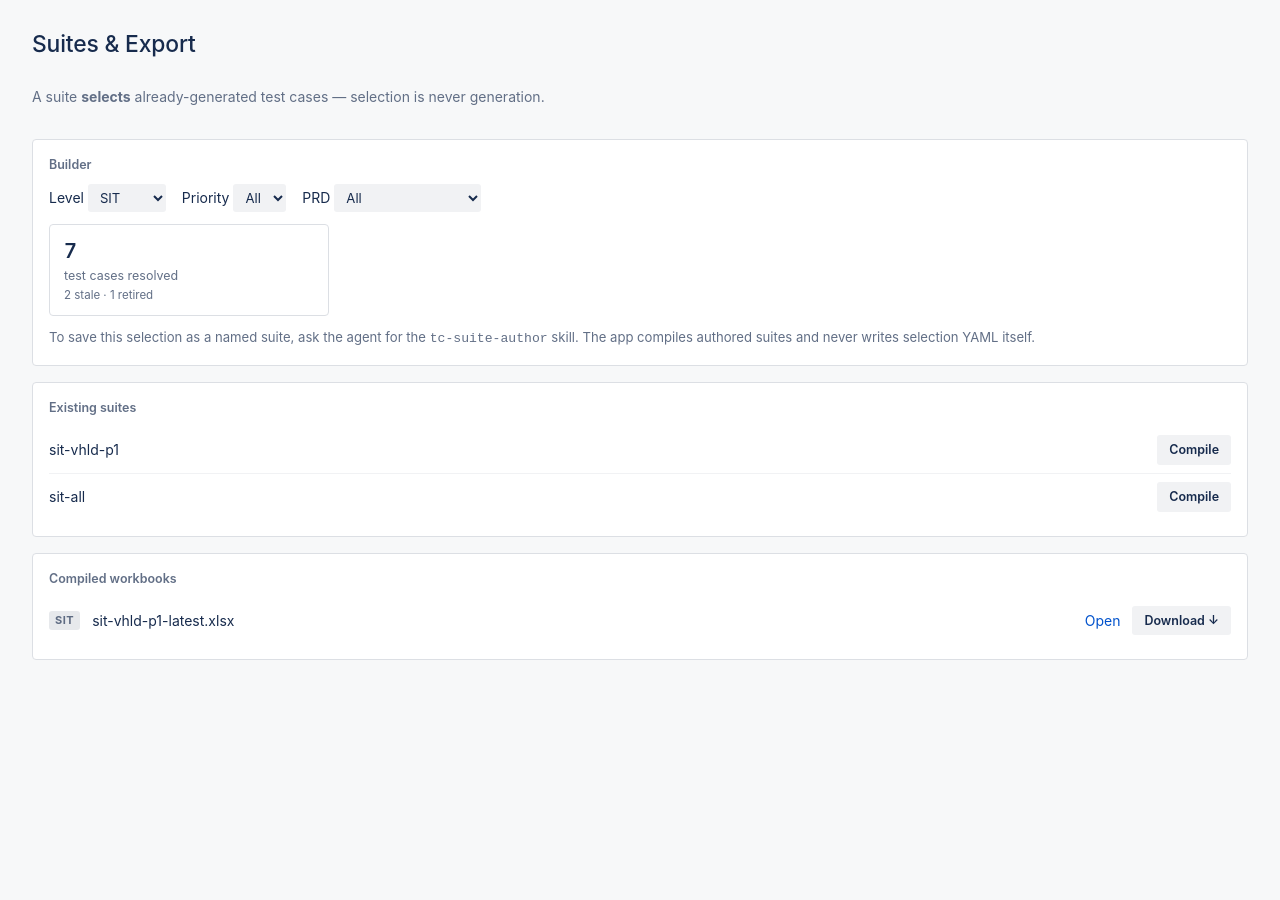
it: SuitesPage › shows a compile the server would not run, and one that could not be sent
The image size is (1280, 900).
Expected: the text "7" is shown, [64,239,77,263]
Click the 1st button "Compile". click: [1194, 450]
box: [1157,435,1231,465]
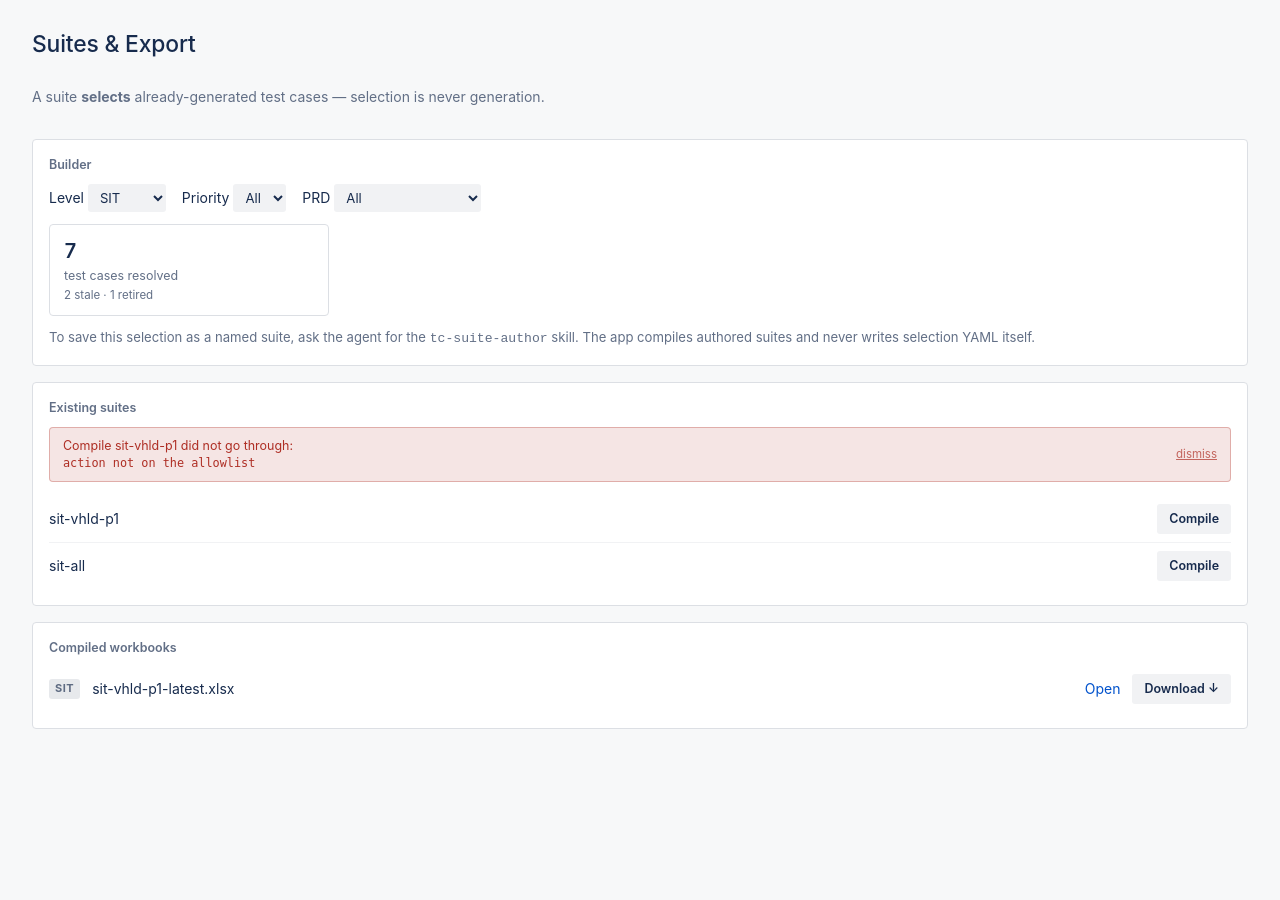
Now the text "action not on the allowlist" is shown, box [63,456,255,470]
Click the 1st button "Compile". click: [1194, 519]
box: [1157,504,1231,534]
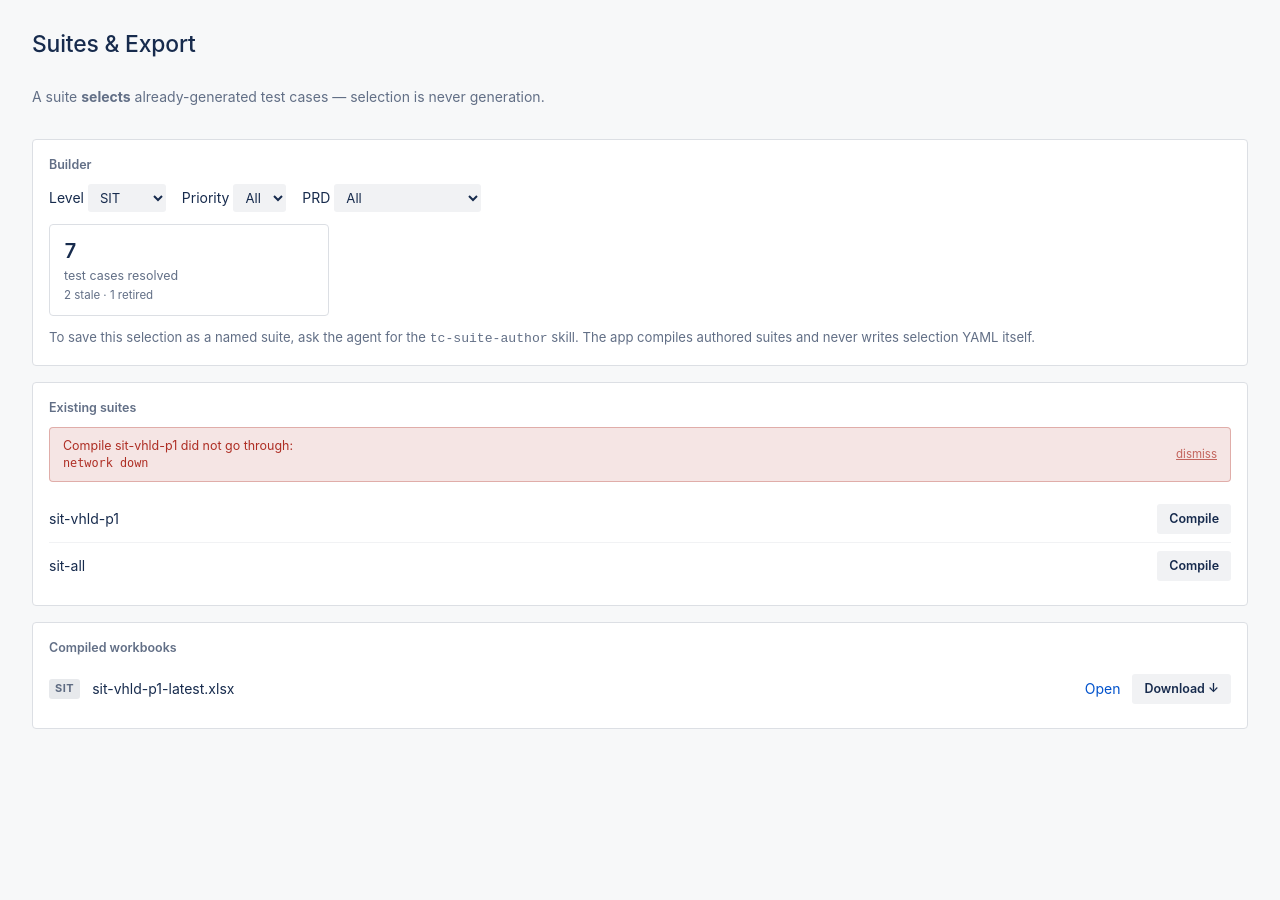
Now the text "network down" is shown, box [63,456,148,470]
